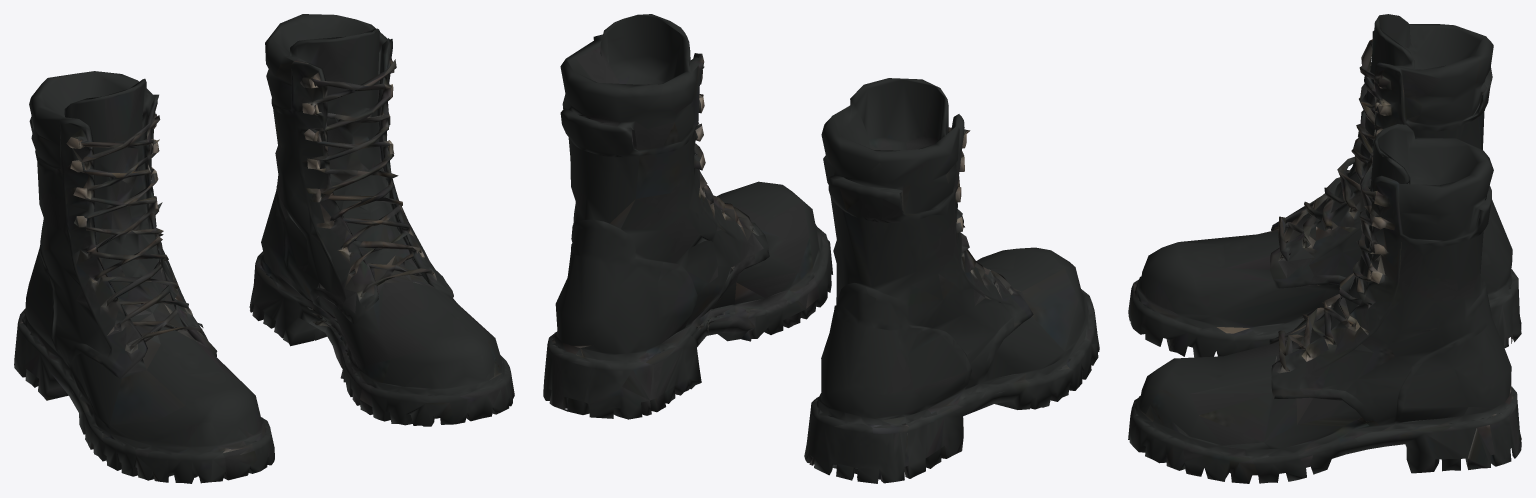
File: shoes_boots.glb
The picture shows the model from 3 angles, left to right: view 1: azimuth 30°, elevation 25°; view 2: azimuth 150°, elevation 25°; view 3: azimuth 270°, elevation 25°; orthographic projection. The views are drawn at different scales.
Parts seen in each view (by area): view 1: boots; view 2: boots; view 3: boots.
Part boxes in pixels (left/top/right/bottom): boots: left=14, top=14, right=514, bottom=483; boots: left=543, top=14, right=1099, bottom=483; boots: left=1128, top=14, right=1521, bottom=483.
Size of the model in its own units: 0.3148 by 0.2409 by 0.2775.
1 material, 1 textured.
